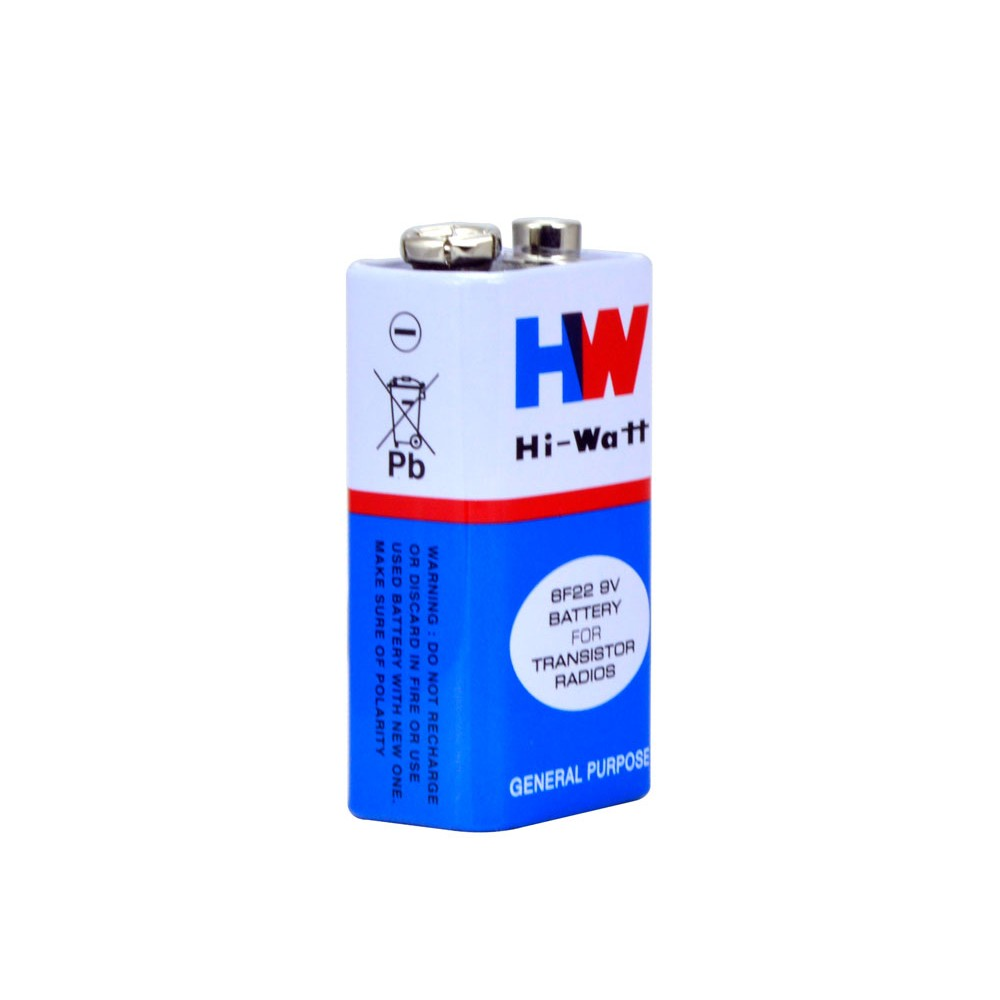9V: (319, 217, 663, 836)
